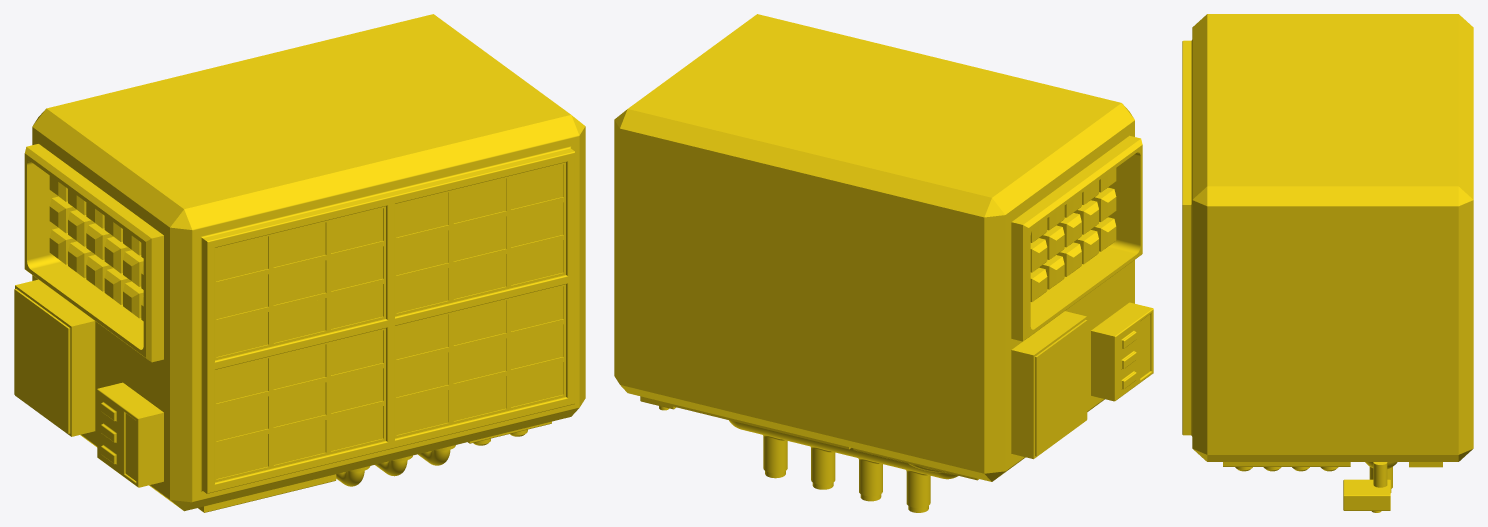
File: FogVacuum.glb
The picture shows the model from 3 angles, left to right: view 1: azimuth 30°, elevation 25°; view 2: azimuth 150°, elevation 25°; view 3: azimuth 270°, elevation 25°; orthographic projection. The views are drawn at different scales.
Parts seen in each view (by area): view 1: Part 15; view 2: Part 15; view 3: Part 15.
Boxes of the visible parts, left/top/right/bottom form: Part 15: left=14, top=14, right=585, bottom=512; Part 15: left=614, top=14, right=1153, bottom=512; Part 15: left=1182, top=14, right=1473, bottom=512.
Bounding box in the file's own units: 0.9595 × 0.7886 × 0.584.
